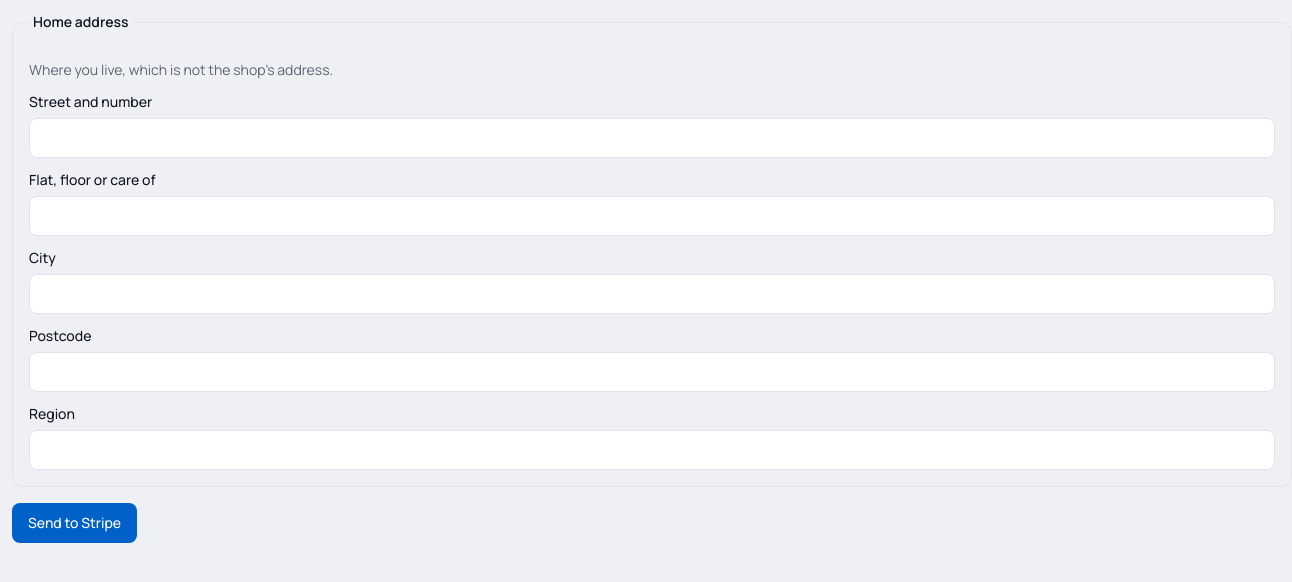
Test: PayoutDetailsForm › puts a nested refusal beside the input it names
Click the button "Send to Stripe": (75, 523) [12,503,137,543]
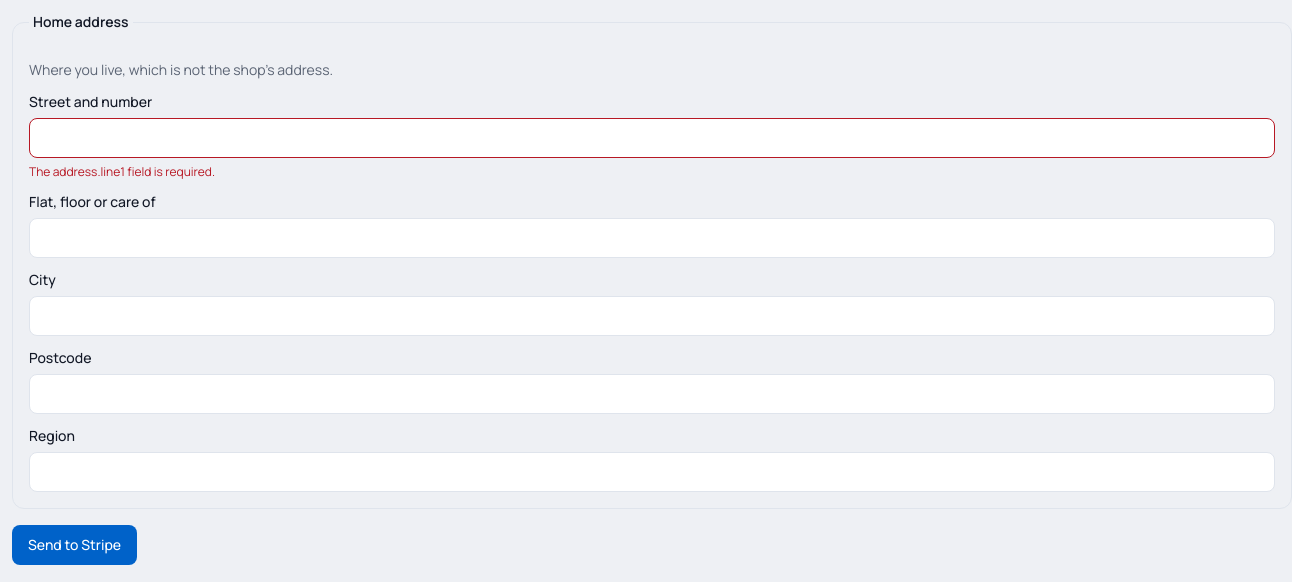
expect the list item "The address.line1 field is required." is shown: met, box [29,163,215,180]
